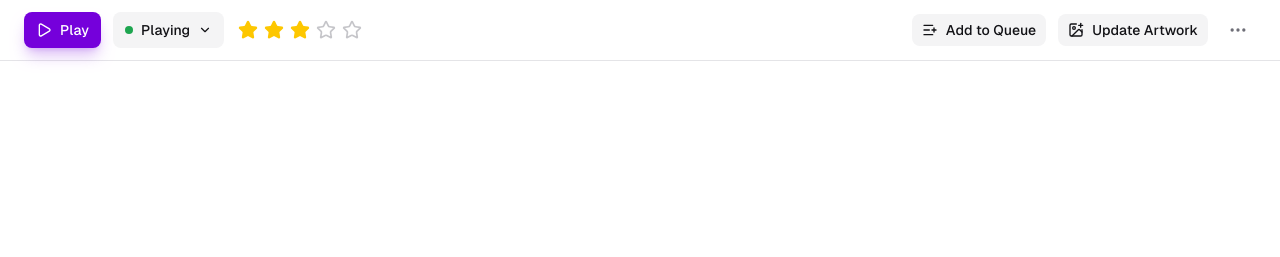
Test: Story 7.2: Action Bar › renders More actions menu
Click the button with test id "action-more" at (1238, 30), box x1=1220 y1=12 x2=1256 y2=48
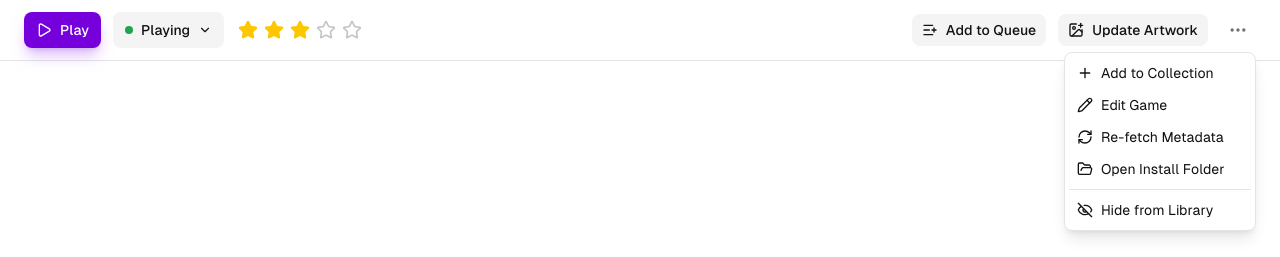
Expected: the element with test id "action-more-menu" is shown, x1=1064 y1=52 x2=1256 y2=231
Expected: the button with test id "action-add-collection" is shown, x1=1069 y1=57 x2=1251 y2=89
Expected: the button with test id "action-edit" is shown, x1=1069 y1=89 x2=1251 y2=121
